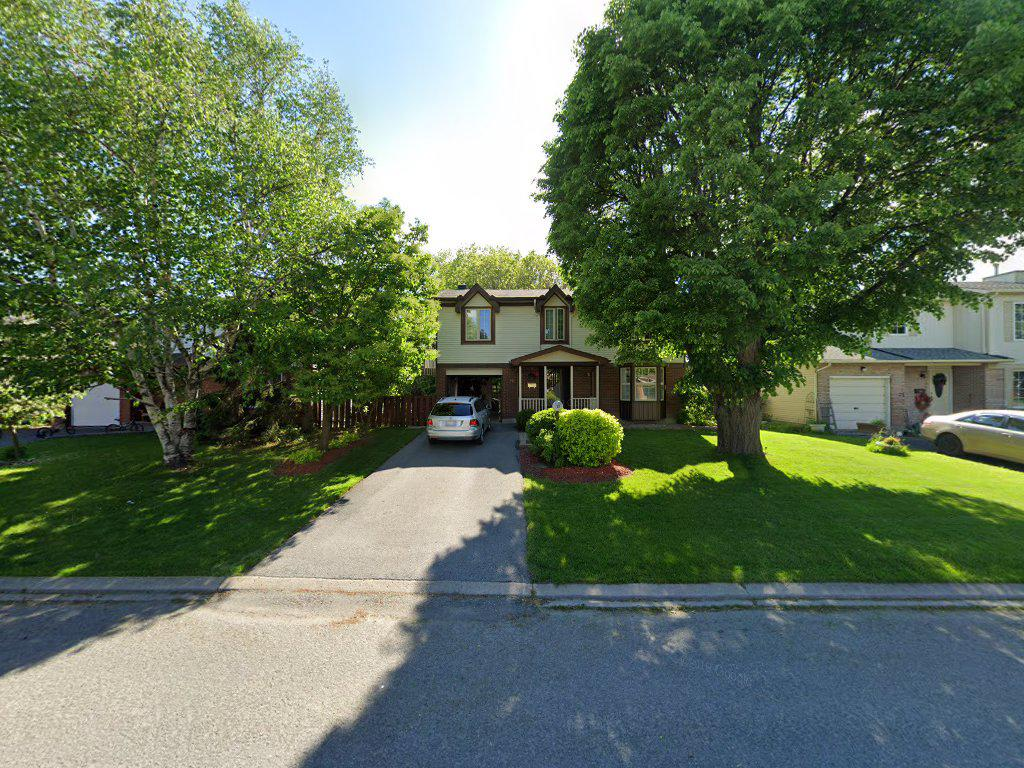trunk: (126, 360, 207, 480), (706, 353, 772, 480)
